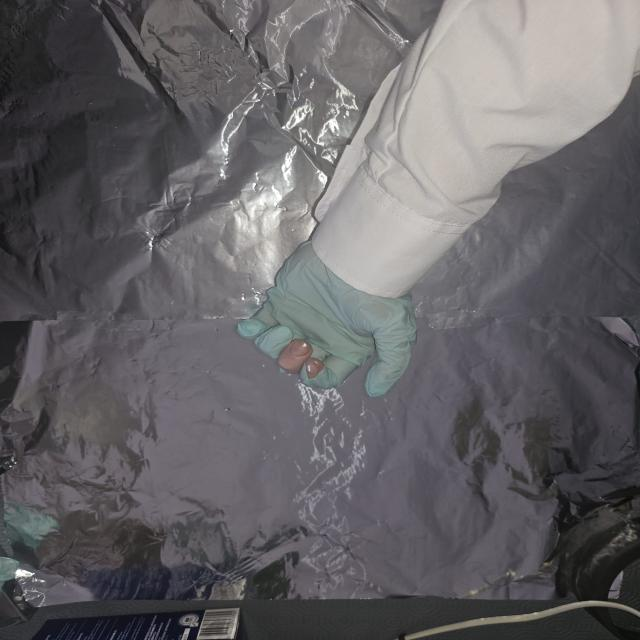gloves_damaged: (232, 245, 417, 400)
